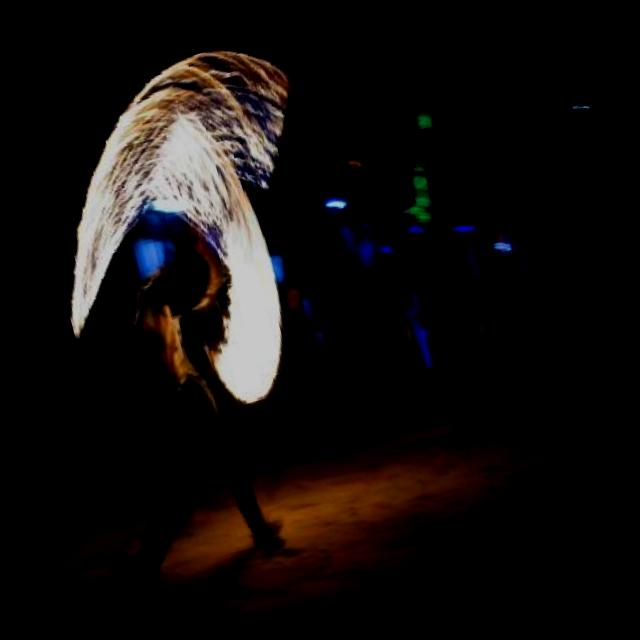Person: (18, 172, 322, 626), (428, 217, 492, 346), (324, 245, 389, 370), (366, 242, 414, 349)
